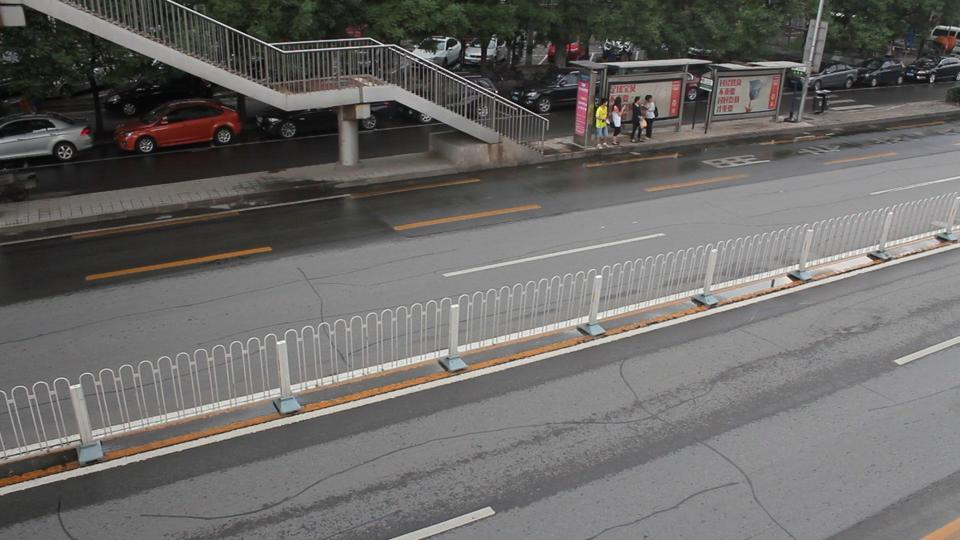car: (114, 99, 244, 154), (1, 112, 95, 164), (254, 104, 387, 139), (102, 76, 214, 117), (507, 69, 582, 114), (412, 36, 472, 69), (806, 64, 865, 91), (861, 60, 905, 86), (922, 58, 960, 82)
person: (635, 95, 659, 140), (593, 98, 614, 147), (629, 96, 649, 142), (606, 99, 625, 147)
